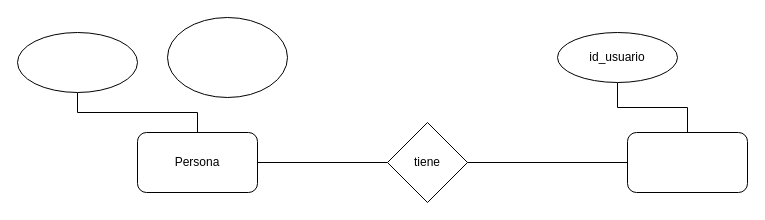
Image size: 765x220. Some labels were removed from this diagram. Here are the shapes that lost their labels. From the top down, the centre of each, then its label:
(x=77, y=62): id_persona
(x=687, y=162): Usuario
